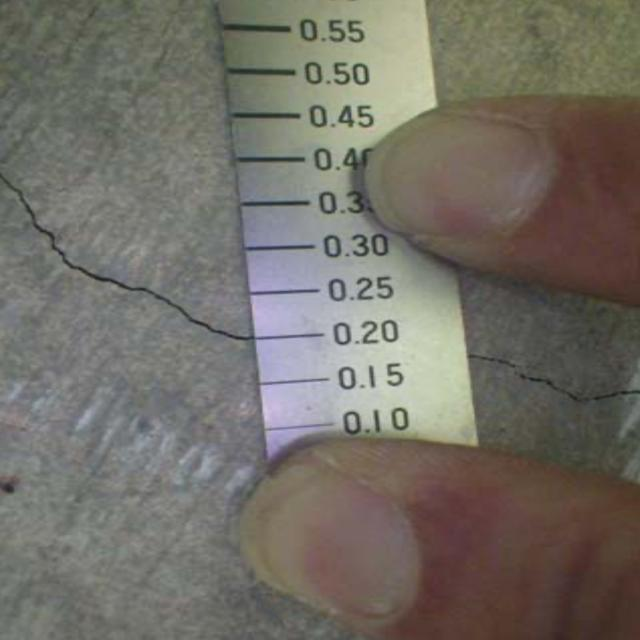crack: (4, 164, 256, 369), (465, 334, 640, 427)
